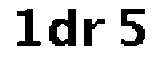1: (12, 3, 43, 50)
5: (114, 4, 148, 51)
d: (46, 5, 79, 49)
r: (81, 13, 106, 46)
